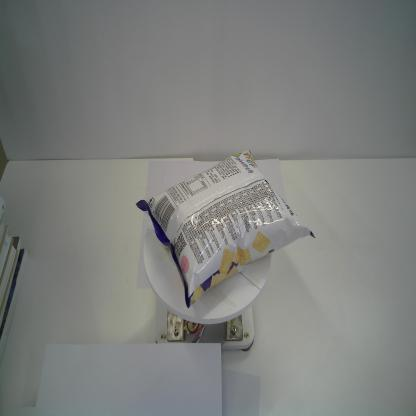Puffed Food: (135, 150, 316, 310)
